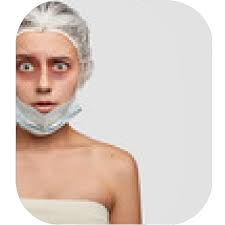mask_weared_incorrect: (17, 44, 74, 130)
